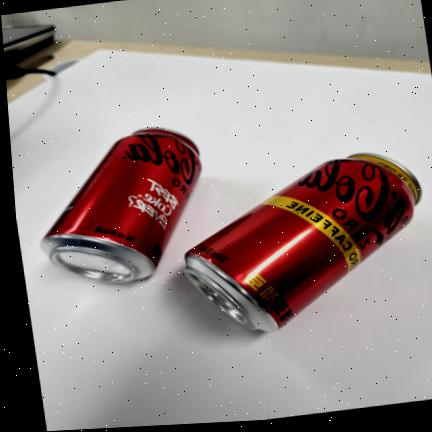can_coke_decaf: (180, 151, 423, 331)
can_coke_zero: (46, 126, 205, 282)
